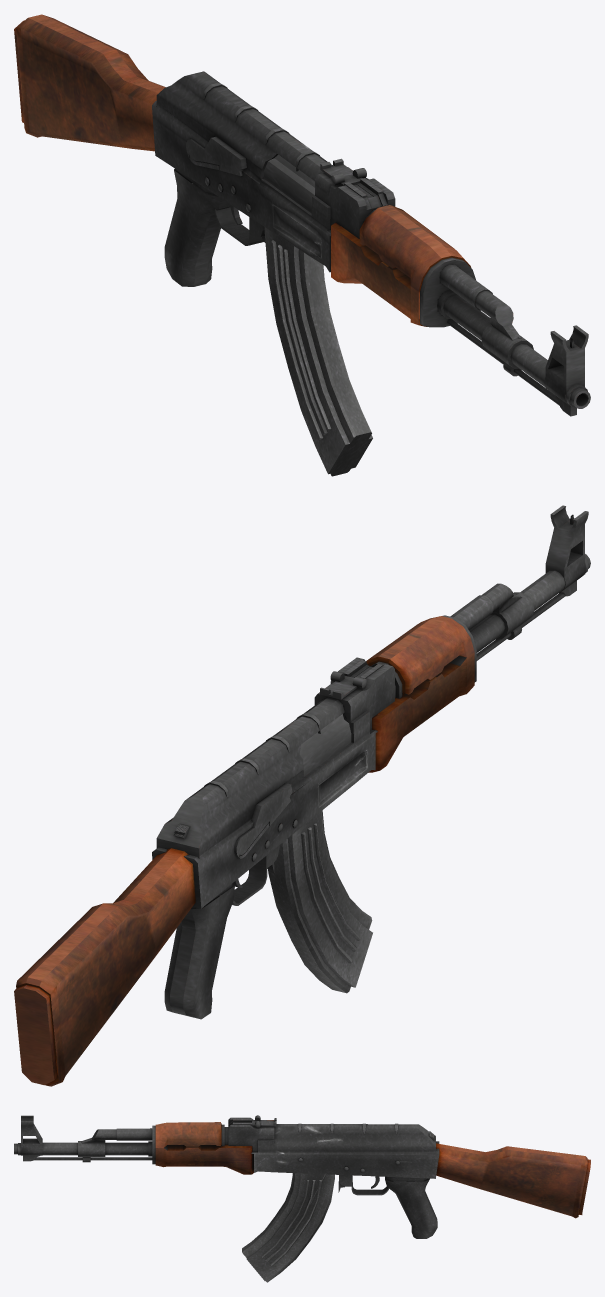
The picture shows the model from 3 angles, top to bottom: view 1: azimuth 30°, elevation 25°; view 2: azimuth 150°, elevation 25°; view 3: azimuth 270°, elevation 25°; orthographic projection. The views are drawn at different scales.
Visible parts, largest first — view 1: Ak47Body; view 2: Ak47Body; view 3: Ak47Body.
Part boxes in pixels (box(x1,y1,x2,y2)): Ak47Body: box(14, 14, 590, 476); Ak47Body: box(14, 505, 590, 1086); Ak47Body: box(14, 1115, 590, 1282).
Size of the model in its own units: 0.0208 by 0.1098 by 0.3544.
